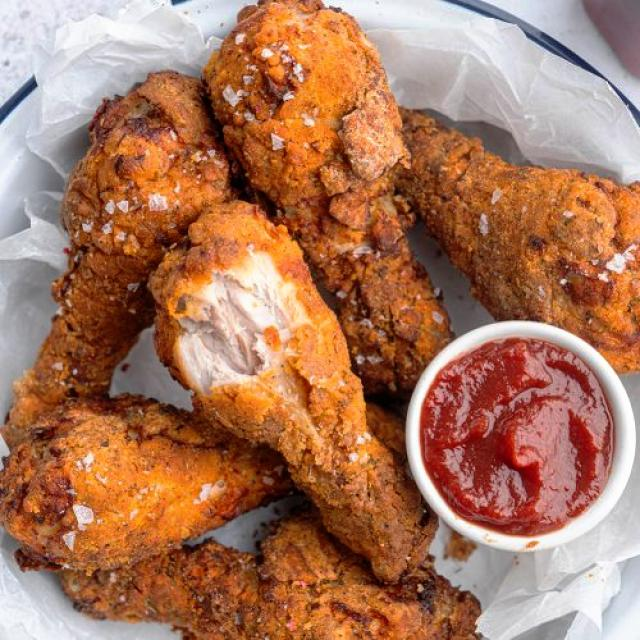fried_chicken: (1, 0, 476, 640), (392, 103, 640, 369)
ketchup: (423, 341, 614, 534)
